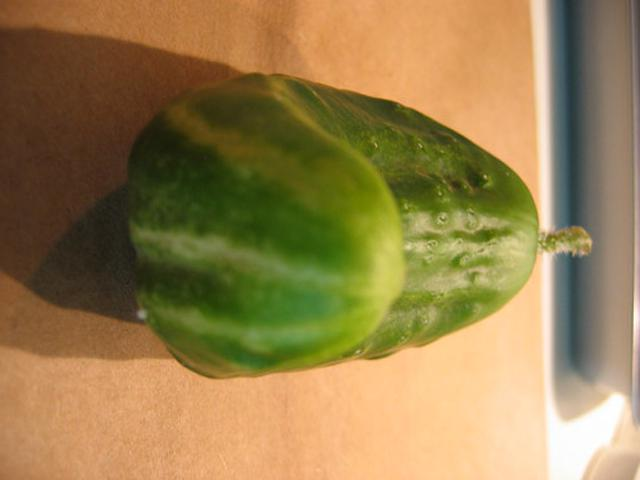cucumber: (124, 76, 593, 381)
